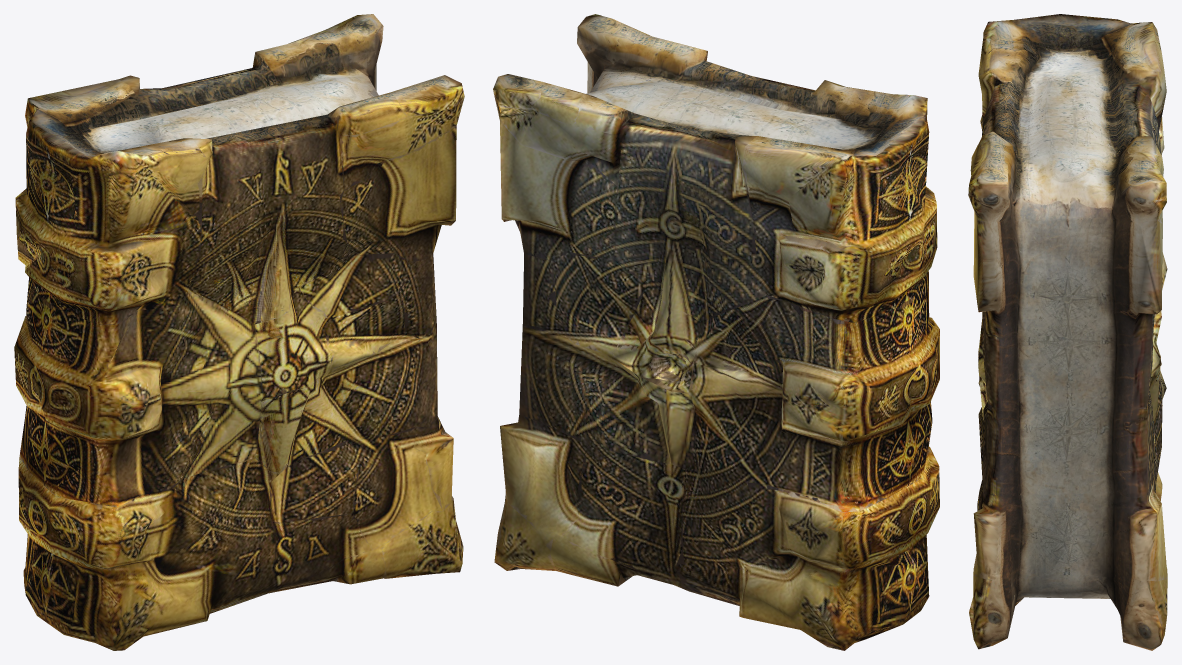
The model's file is An_ancient_book_aged.glb.
The picture shows the model from 3 angles, left to right: view 1: azimuth 30°, elevation 25°; view 2: azimuth 150°, elevation 25°; view 3: azimuth 270°, elevation 25°; orthographic projection. The views are drawn at different scales.
Size of the model in its own units: 0.9684 by 1.2 by 0.4537.
Materials: 1 (1 with a texture image).
